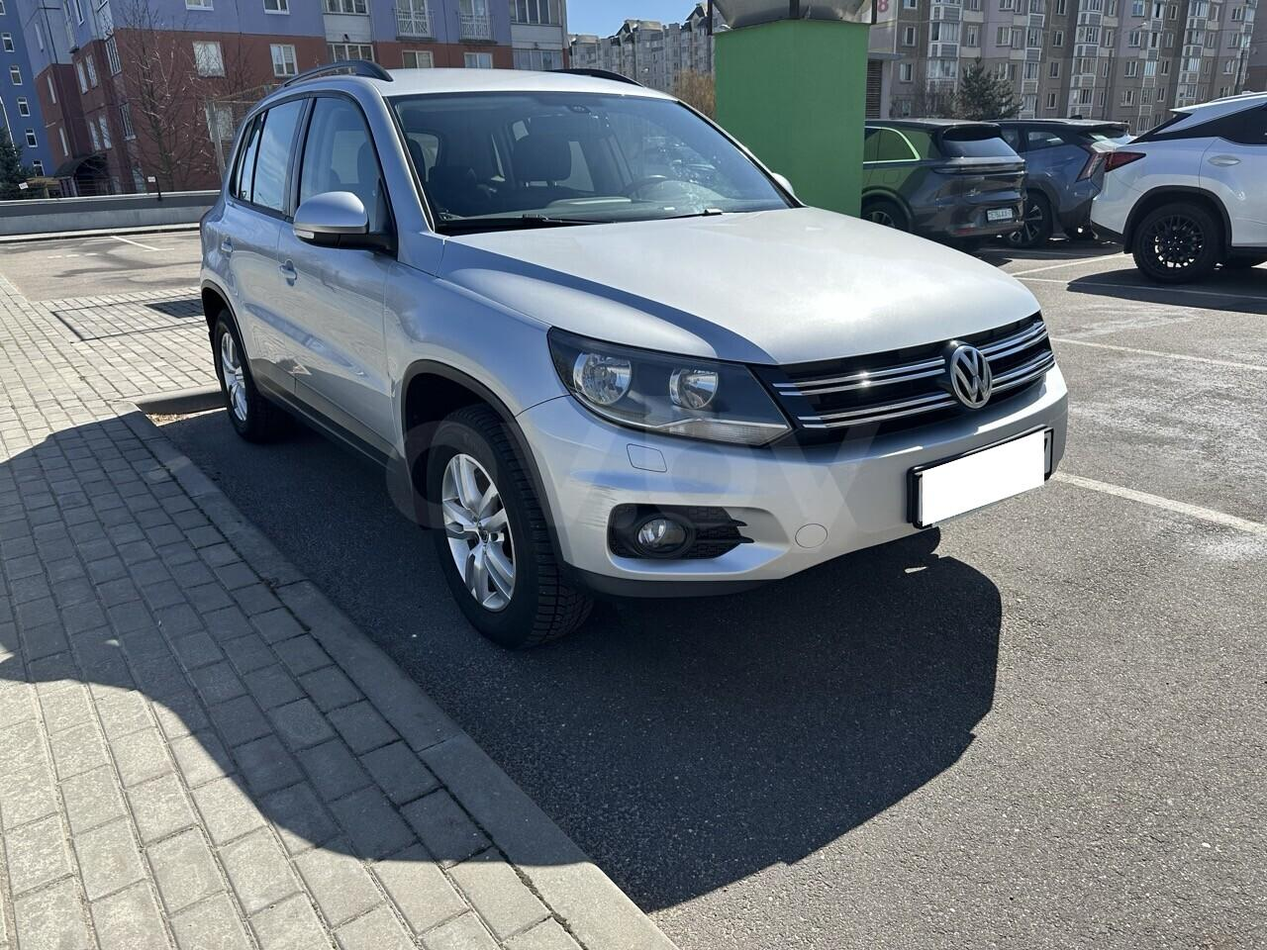Tiguan_2011-2018: (195, 62, 1068, 643)
